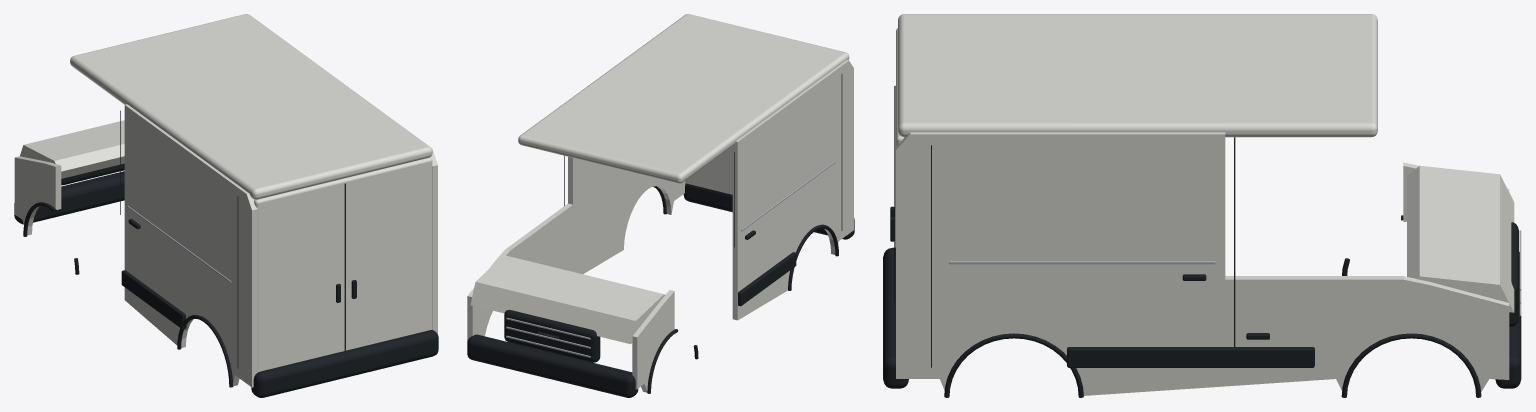
The model's file is body.glb.
3 views of the same model, side by side, from view 1: azimuth 30°, elevation 25°; view 2: azimuth 150°, elevation 25°; view 3: azimuth 270°, elevation 25° (orthographic). The views are drawn at different scales.
Visible parts, largest first — view 1: body; view 2: body; view 3: body.
Part boxes in pixels (left/top/right/bottom): body: left=14, top=14, right=438, bottom=397; body: left=467, top=14, right=854, bottom=397; body: left=883, top=14, right=1521, bottom=397.
Size of the model in its own units: 2.45 by 2.52 by 5.41.
Materials: 5 (1 with a texture image).
